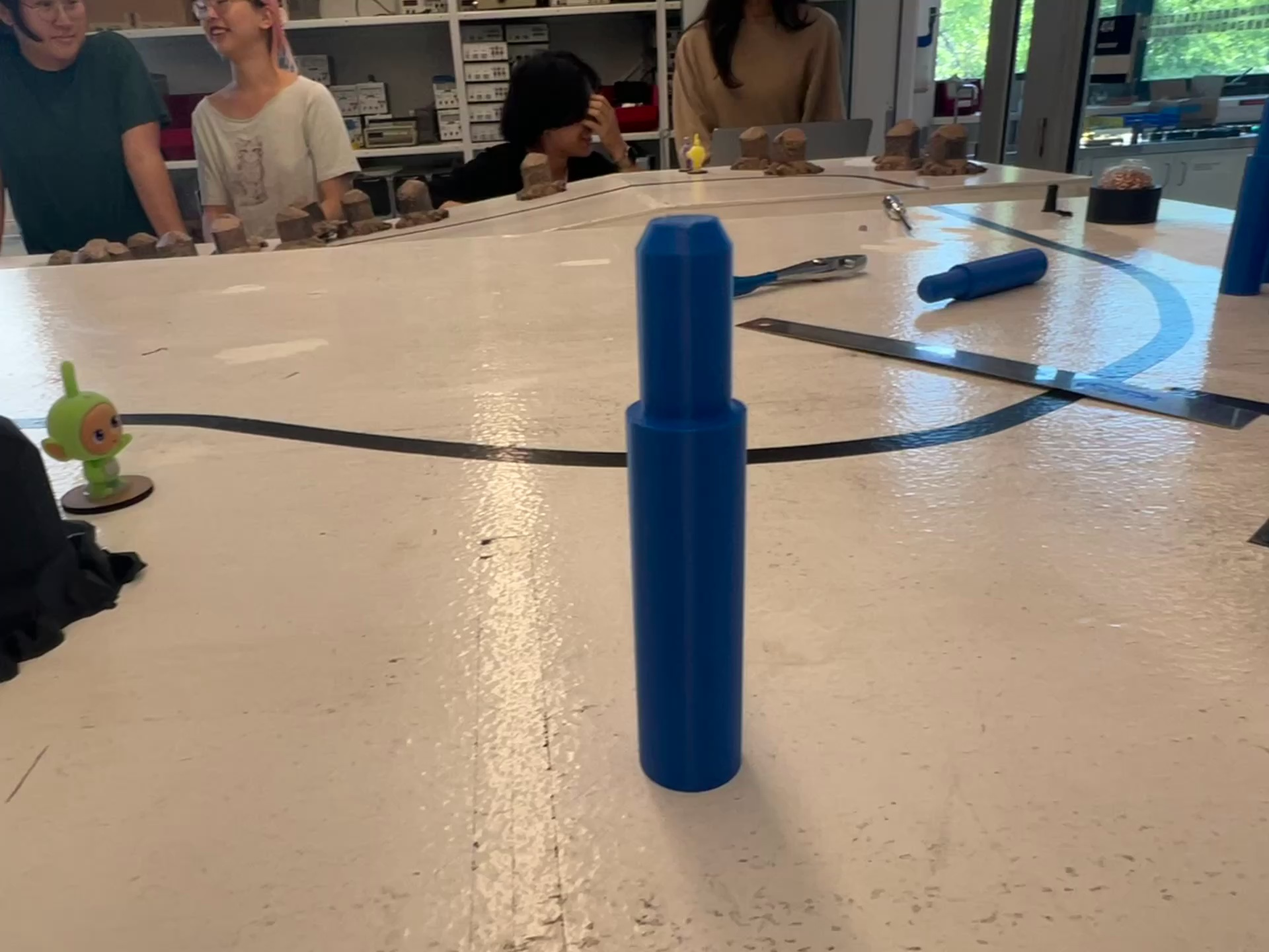teletubby: (42, 362, 131, 502), (686, 134, 710, 171)
